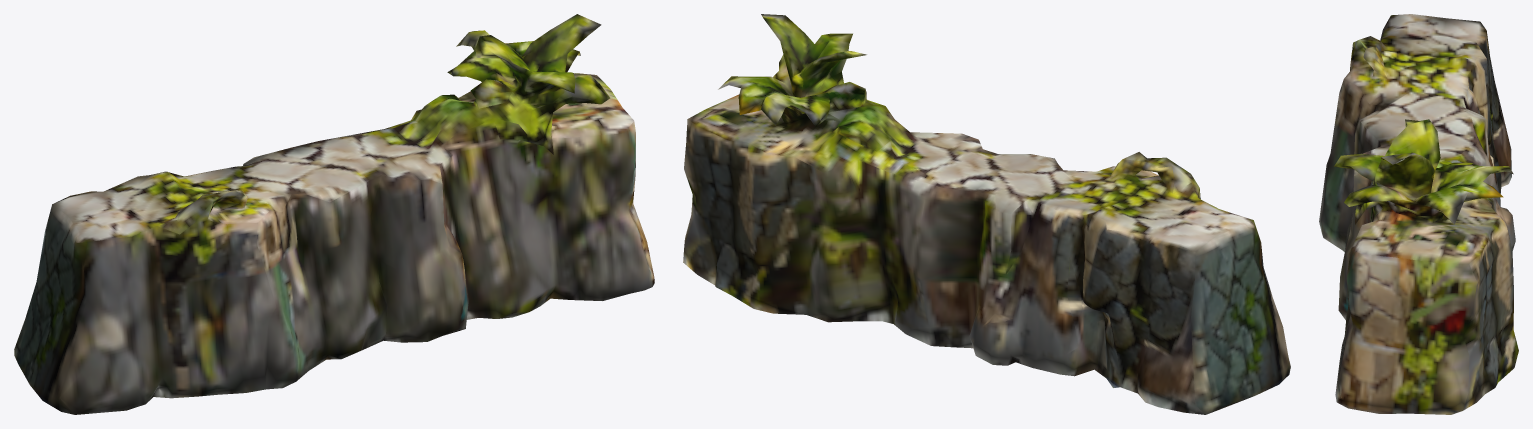
File: SummerDecor_ThirdRoom_RockLedge.fbx
3 renders of one model, left to right at view 1: azimuth 30°, elevation 25°; view 2: azimuth 150°, elevation 25°; view 3: azimuth 270°, elevation 25°, orthographic. The views are drawn at different scales.
Parts seen in each view (by area): view 1: SummerDecor_ThirdRoom_RockLedge_Mesh; view 2: SummerDecor_ThirdRoom_RockLedge_Mesh; view 3: SummerDecor_ThirdRoom_RockLedge_Mesh.
Boxes of the visible parts, x1,y1,x2,y2 form: SummerDecor_ThirdRoom_RockLedge_Mesh: (14,14,654,414); SummerDecor_ThirdRoom_RockLedge_Mesh: (683,14,1290,414); SummerDecor_ThirdRoom_RockLedge_Mesh: (1319,14,1518,414).
Size of the model in its own units: 6 by 2.46 by 1.87.
Materials: 1 (1 with a texture image).
